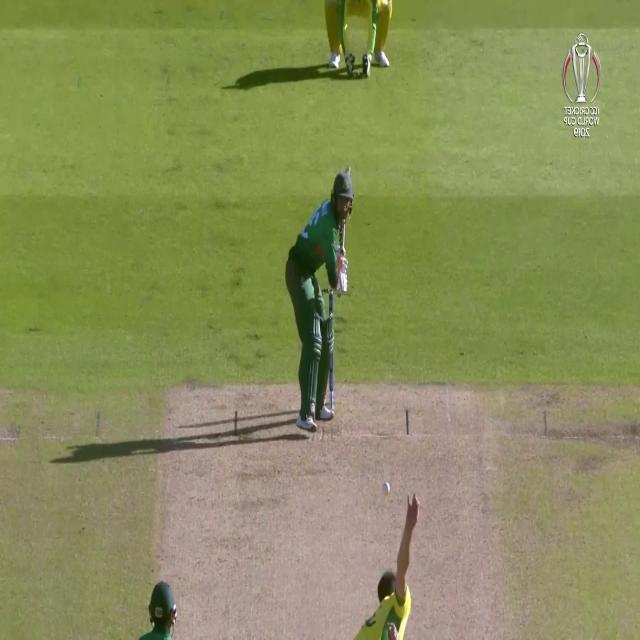ball: (380, 477, 391, 500)
